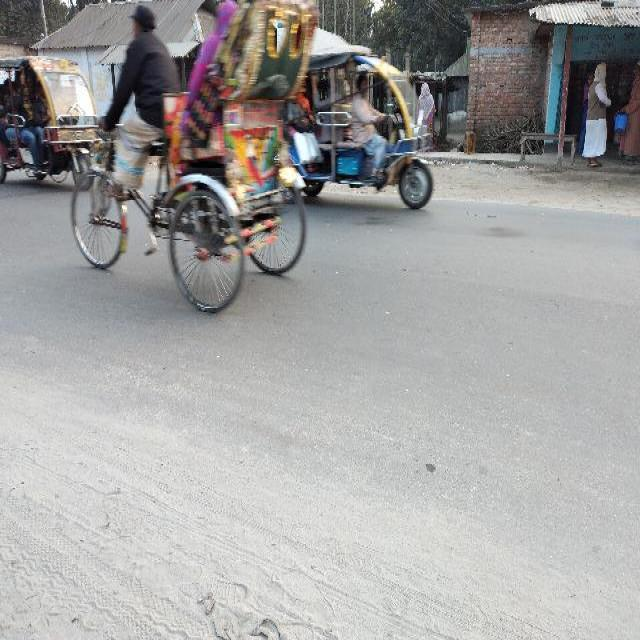13: (67, 0, 317, 317)
Car: (265, 46, 437, 221), (0, 56, 100, 197)
